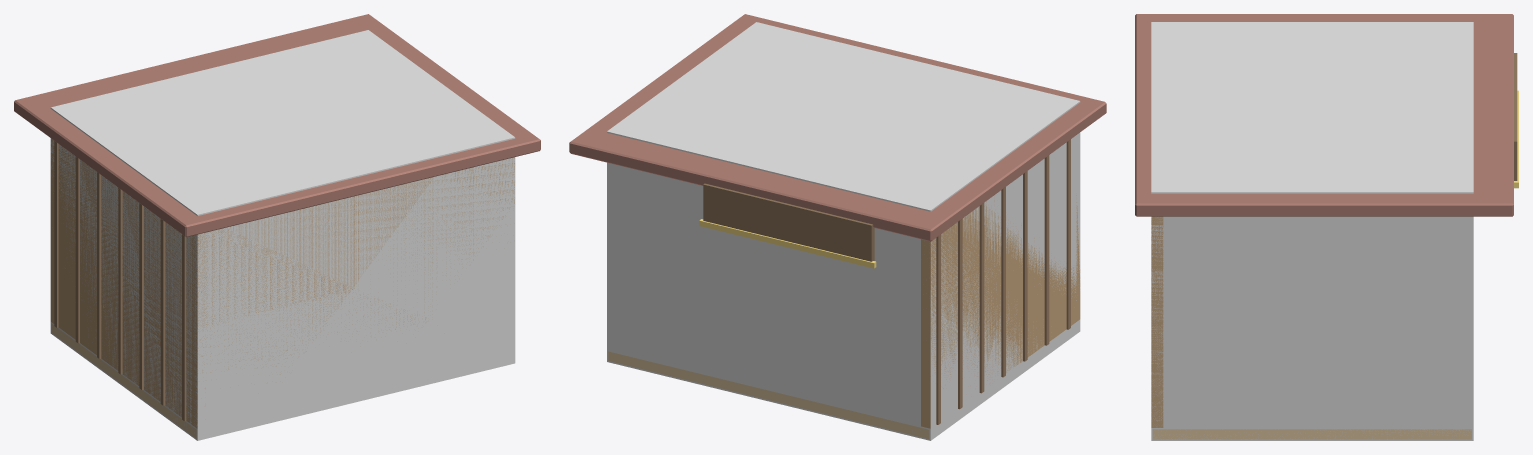
Rendered from InteriorStudio.fbx.
3 views of the same model, side by side, from view 1: azimuth 30°, elevation 25°; view 2: azimuth 150°, elevation 25°; view 3: azimuth 270°, elevation 25° (orthographic). The views are drawn at different scales.
Parts seen in each view (by area): view 1: COL_Shell, Base; view 2: COL_Shell, Base; view 3: COL_Shell, Base.
Boxes of the visible parts, x1,y1,x2,y2 form: COL_Shell: (50, 30, 515, 440); Base: (14, 14, 540, 438); COL_Shell: (607, 22, 1080, 440); Base: (569, 14, 1106, 438); COL_Shell: (1151, 22, 1473, 440); Base: (1135, 14, 1518, 439).
Size of the model in its own units: 5.6 by 3.4 by 4.76.
